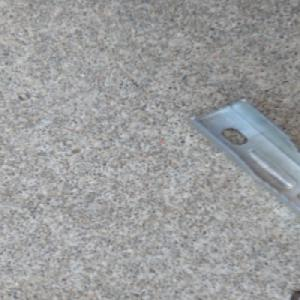ClampPart: (183, 96, 300, 222)
